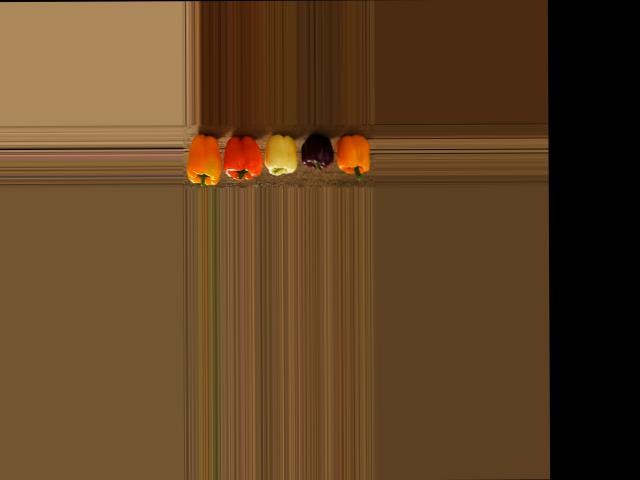bell_pepper: (339, 126, 373, 181)
